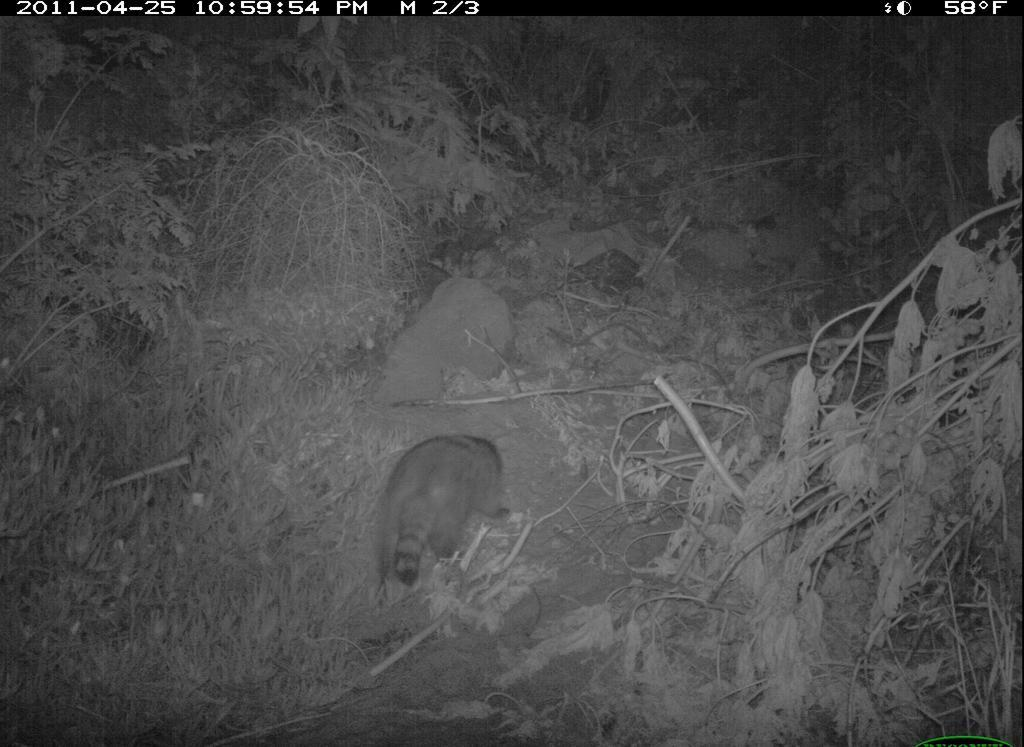raccoon: (372, 425, 511, 594)
